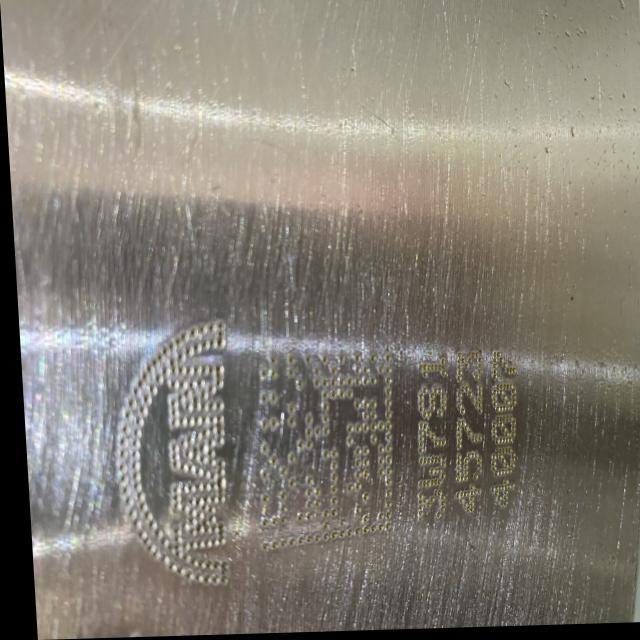dmc: (256, 357, 385, 551)
